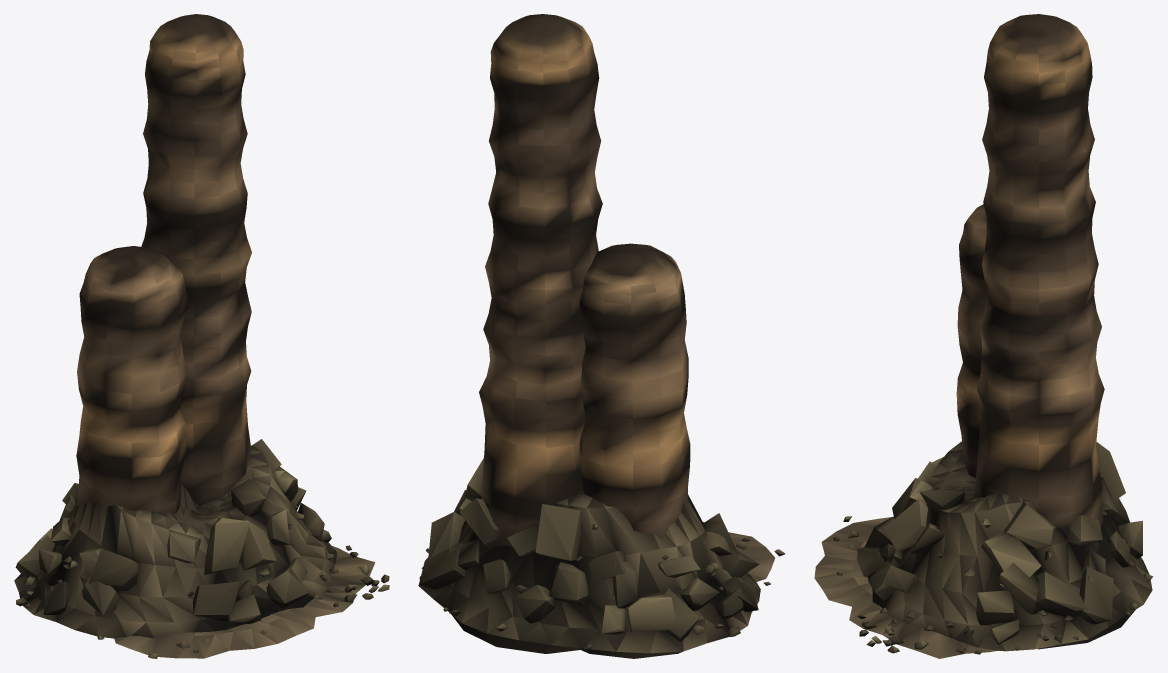
The model's file is TarSpire12.glb.
3 views of the same model, side by side, from view 1: azimuth 30°, elevation 25°; view 2: azimuth 150°, elevation 25°; view 3: azimuth 270°, elevation 25° (orthographic). The views are drawn at different scales.
Parts seen in each view (by area): view 1: TarSpire12; view 2: TarSpire12; view 3: TarSpire12.
Part boxes in pixels (x1,y1,x2,y2): TarSpire12: (14, 14, 389, 658); TarSpire12: (418, 14, 785, 658); TarSpire12: (814, 14, 1153, 658).
Bounding box in the file's own units: 5.22 × 8.8 × 4.6.
